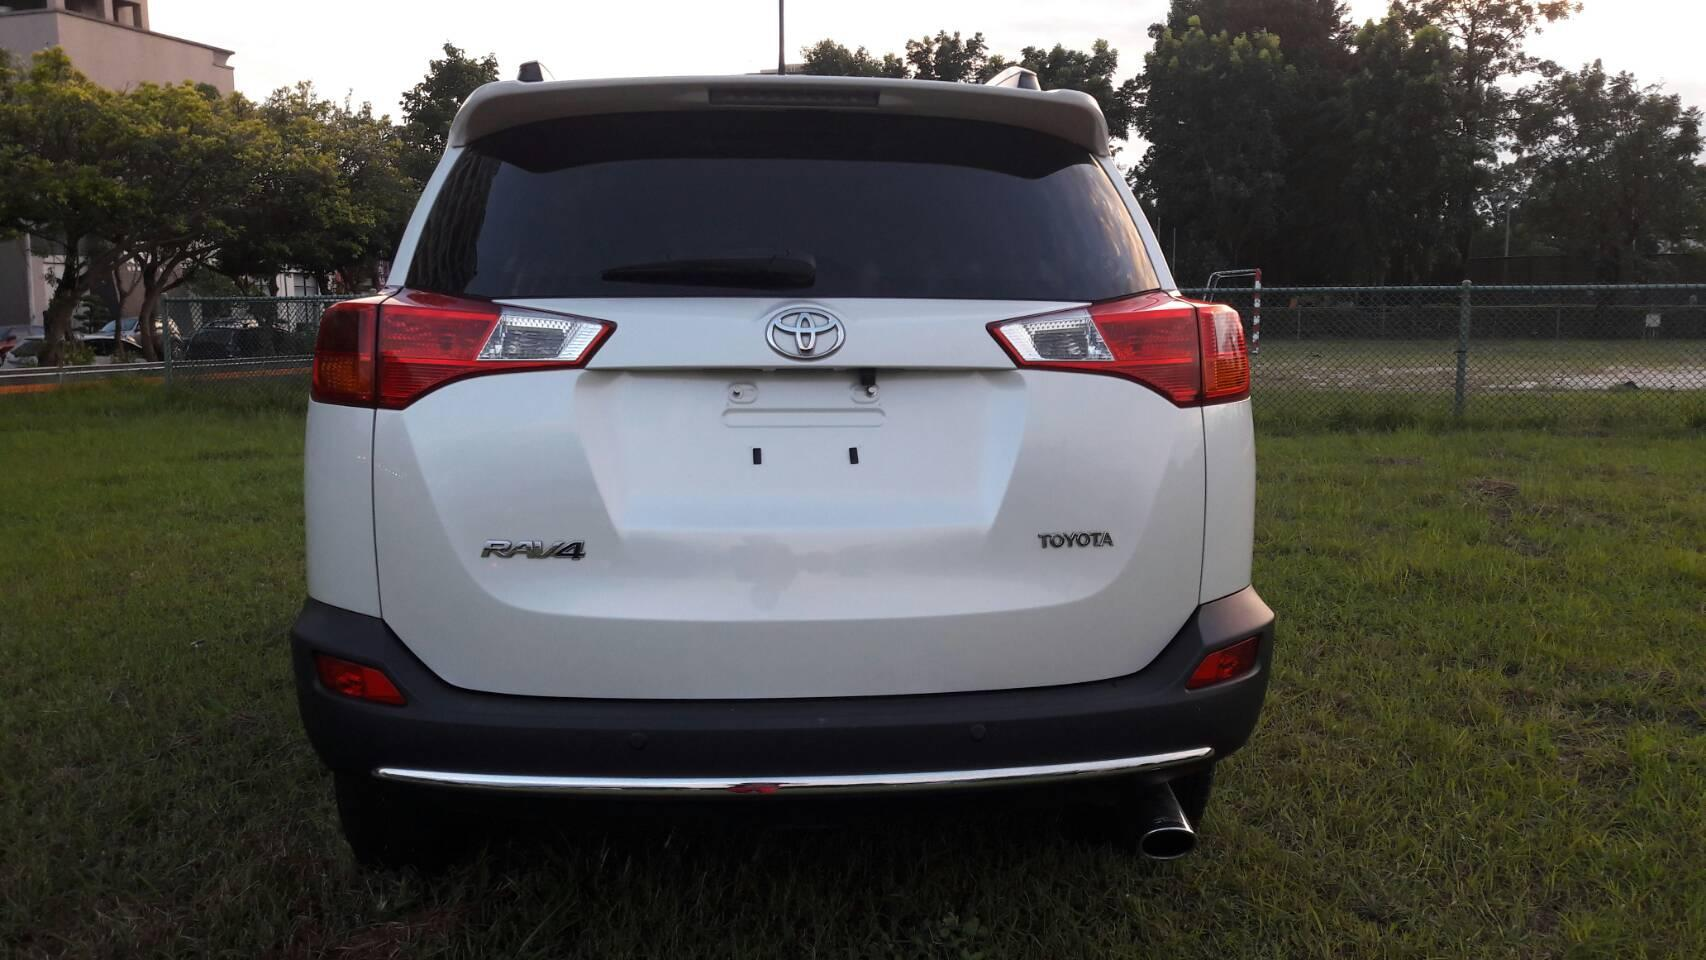toyota_rav4: (306, 70, 1256, 852)
